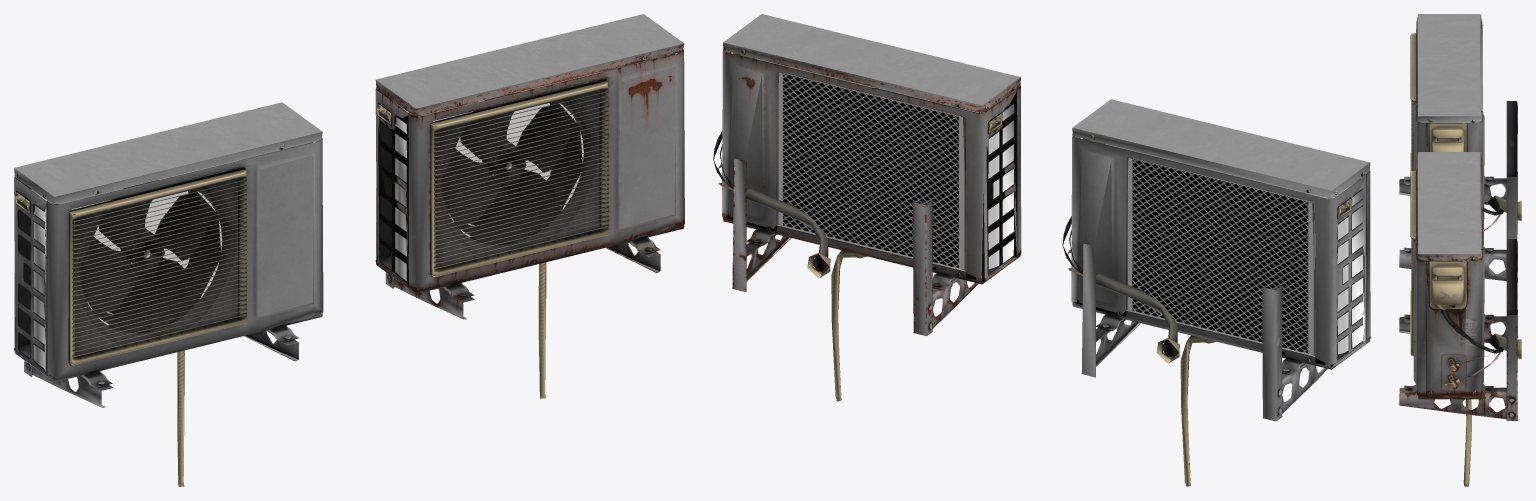
The model's file is exterior_aircon_unit.glb.
3 renders of one model, left to right at view 1: azimuth 30°, elevation 25°; view 2: azimuth 150°, elevation 25°; view 3: azimuth 270°, elevation 25°, orthographic. The views are drawn at different scales.
Visible parts, largest first — view 1: exterior_aircon_unit_rusted, exterior_aircon_unit; view 2: exterior_aircon_unit, exterior_aircon_unit_rusted; view 3: exterior_aircon_unit_rusted, exterior_aircon_unit.
Boxes of the visible parts, box(x1,y1,x2,y2) form: exterior_aircon_unit_rusted: box(375, 14, 684, 398); exterior_aircon_unit: box(14, 102, 323, 486); exterior_aircon_unit: box(1062, 99, 1370, 486); exterior_aircon_unit_rusted: box(713, 14, 1021, 401); exterior_aircon_unit_rusted: box(1399, 152, 1521, 486); exterior_aircon_unit: box(1399, 14, 1521, 282).
Bounding box in the file's own units: 1.8 × 0.927 × 0.3748.
Materials: 4 (4 with a texture image).
